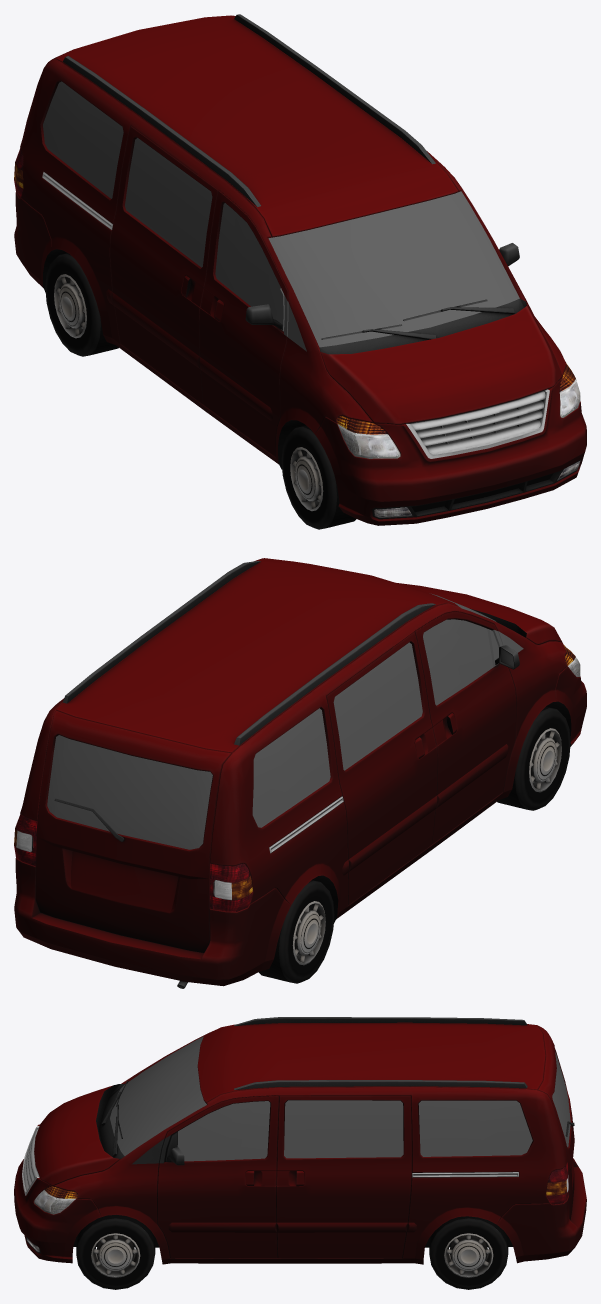
File: Minivan.glb
3 views of the same model, one above another, from view 1: azimuth 30°, elevation 25°; view 2: azimuth 150°, elevation 25°; view 3: azimuth 270°, elevation 25° (orthographic). The views are drawn at different scales.
Visible parts, largest first — view 1: minivan body, Wheel_D002, Wheel_D003; view 2: minivan body, Wheel_D003, Wheel_D002; view 3: minivan body, Wheel_D, Wheel_D001.
Part boxes in pixels (x1=…): minivan body: x1=14, y1=14, x2=586, y2=525; Wheel_D002: x1=281, y1=425, x2=356, y2=529; Wheel_D003: x1=45, y1=253, x2=118, y2=356; minivan body: x1=14, y1=558, x2=586, y2=988; Wheel_D003: x1=258, y1=880, x2=334, y2=983; Wheel_D002: x1=497, y1=706, x2=570, y2=810; minivan body: x1=14, y1=1017, x2=586, y2=1264; Wheel_D: x1=76, y1=1215, x2=155, y2=1289; Wheel_D001: x1=429, y1=1216, x2=508, y2=1289.
Bounding box in the file's own units: 2.1 × 1.98 × 5.19.
Materials: 4 (3 with a texture image).
